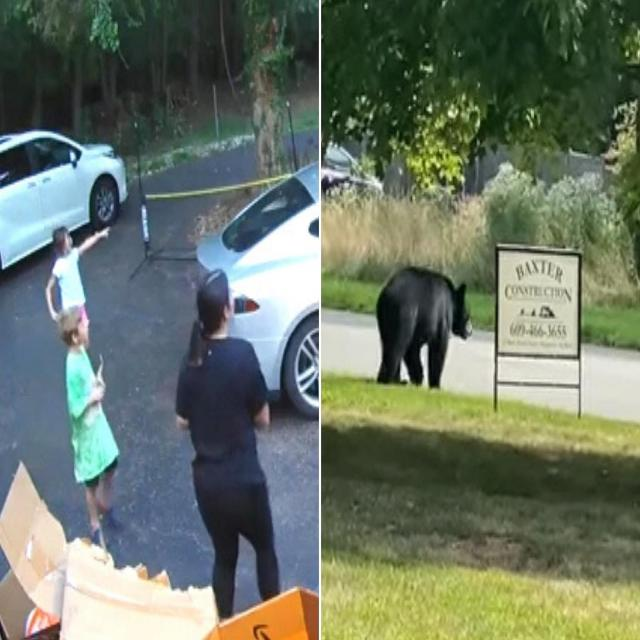Bear: (376, 267, 469, 390)
